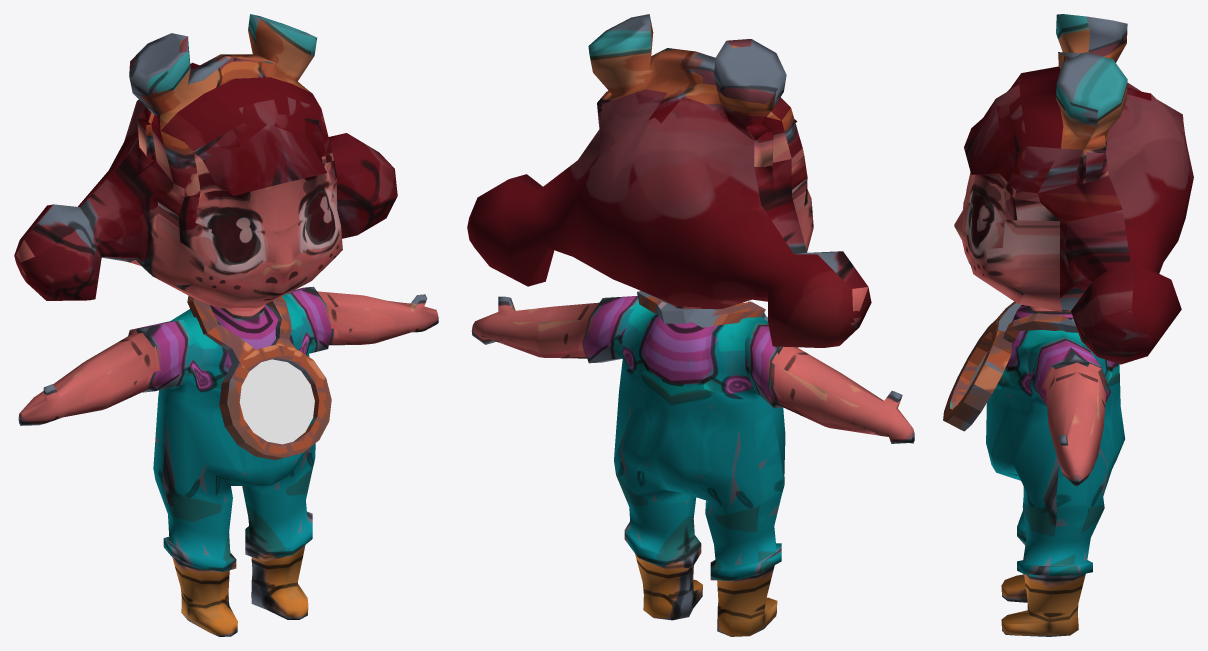
File: Helen.fbx
The picture shows the model from 3 angles, left to right: view 1: azimuth 30°, elevation 25°; view 2: azimuth 150°, elevation 25°; view 3: azimuth 270°, elevation 25°; orthographic projection. The views are drawn at different scales.
Parts seen in each view (by area): view 1: Cylinder; view 2: Cylinder; view 3: Cylinder.
Part boxes in pixels (x1,y1,x2,y2): Cylinder: [14, 14, 438, 636]; Cylinder: [467, 14, 914, 636]; Cylinder: [943, 14, 1193, 636].
Bounding box in the file's own units: 176 × 230 × 90.4.
